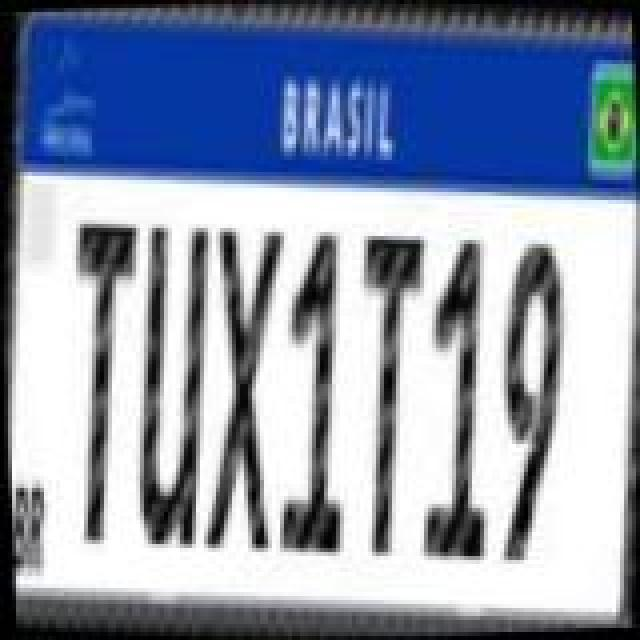1: (264, 222, 368, 558), (408, 230, 512, 566)
9: (476, 226, 580, 566)
T: (332, 226, 436, 566), (48, 212, 152, 548)
U: (122, 214, 222, 550)
X: (190, 216, 298, 552)
